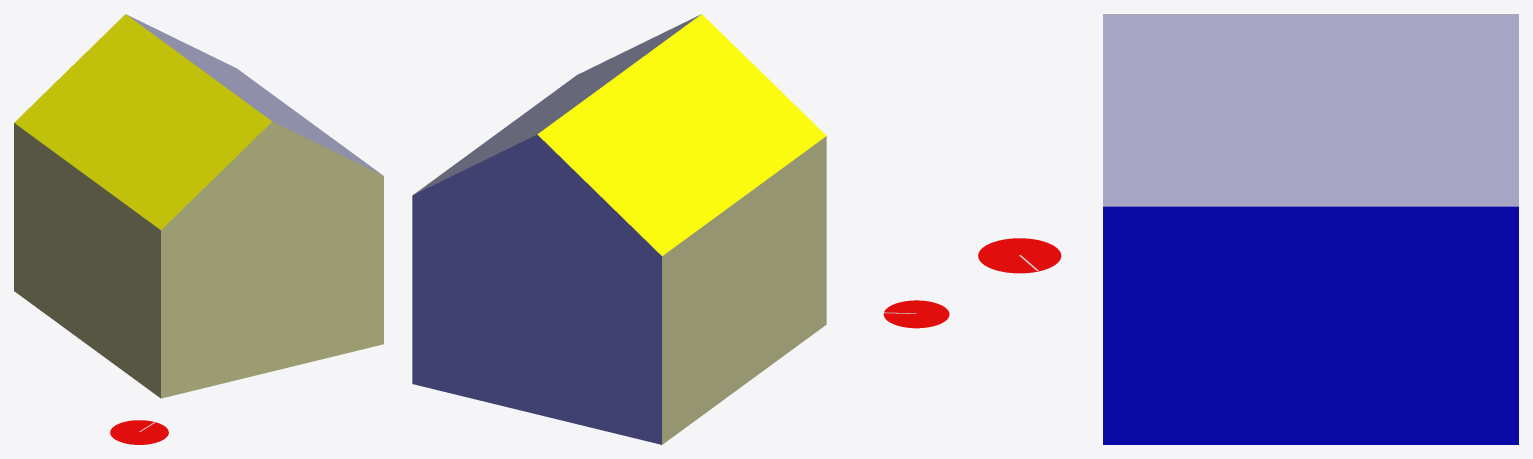
The model's file is result.glb.
3 views of the same model, side by side, from view 1: azimuth 30°, elevation 25°; view 2: azimuth 150°, elevation 25°; view 3: azimuth 270°, elevation 25° (orthographic). The views are drawn at different scales.
Visible parts, largest first — view 1: dc3f0cc3-2eaf-431f-ad47-d331e8a5f4b7__undefined, 2fad00fb-d5ed-4722-9ada-5a5f86a6fded__undefined, 1897a324-ec42-4ea1-a136-eaba8eed1d03__undefined, 92ff174b-35bd-4181-8263-eef1c95ebdf3__undefined, 7e69a697-e55f-427b-9606-fa1af20bdbc5__Circle; view 2: a201c9f5-a220-4f36-abd7-d91a4396b44a__undefined, 2fad00fb-d5ed-4722-9ada-5a5f86a6fded__undefined, 1897a324-ec42-4ea1-a136-eaba8eed1d03__undefined, 92ff174b-35bd-4181-8263-eef1c95ebdf3__undefined, 7e69a697-e55f-427b-9606-fa1af20bdbc5__Circle; view 3: 85fc58dc-6fae-4d6b-a7ca-08ac09aa1be1__undefined, 92ff174b-35bd-4181-8263-eef1c95ebdf3__undefined, 7e69a697-e55f-427b-9606-fa1af20bdbc5__Circle.
Part boxes in pixels (box(x1,y1,x2,y2)): dc3f0cc3-2eaf-431f-ad47-d331e8a5f4b7__undefined: box(161, 121, 383, 398); 2fad00fb-d5ed-4722-9ada-5a5f86a6fded__undefined: box(14, 14, 271, 229); 1897a324-ec42-4ea1-a136-eaba8eed1d03__undefined: box(14, 123, 160, 398); 92ff174b-35bd-4181-8263-eef1c95ebdf3__undefined: box(126, 14, 381, 174); 7e69a697-e55f-427b-9606-fa1af20bdbc5__Circle: box(110, 420, 168, 444); a201c9f5-a220-4f36-abd7-d91a4396b44a__undefined: box(412, 134, 661, 444); 2fad00fb-d5ed-4722-9ada-5a5f86a6fded__undefined: box(537, 14, 826, 255); 1897a324-ec42-4ea1-a136-eaba8eed1d03__undefined: box(662, 136, 826, 444); 92ff174b-35bd-4181-8263-eef1c95ebdf3__undefined: box(413, 14, 700, 194); 7e69a697-e55f-427b-9606-fa1af20bdbc5__Circle: box(883, 300, 949, 328); 85fc58dc-6fae-4d6b-a7ca-08ac09aa1be1__undefined: box(1103, 206, 1518, 444); 92ff174b-35bd-4181-8263-eef1c95ebdf3__undefined: box(1103, 14, 1518, 206); 7e69a697-e55f-427b-9606-fa1af20bdbc5__Circle: box(978, 238, 1061, 273).
Bounding box in the file's own units: 588 × 469 × 650.
